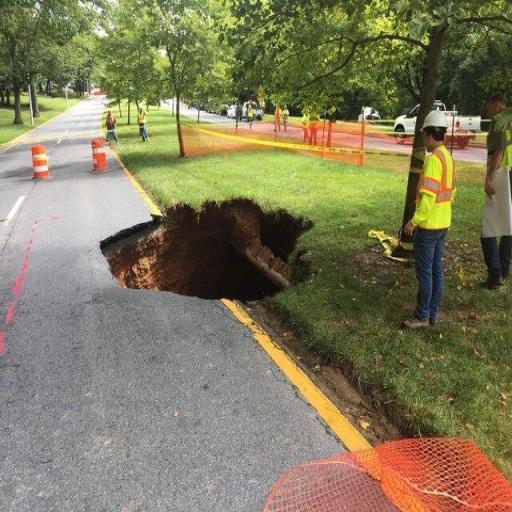Concentric_Crack: (100, 197, 313, 301)
